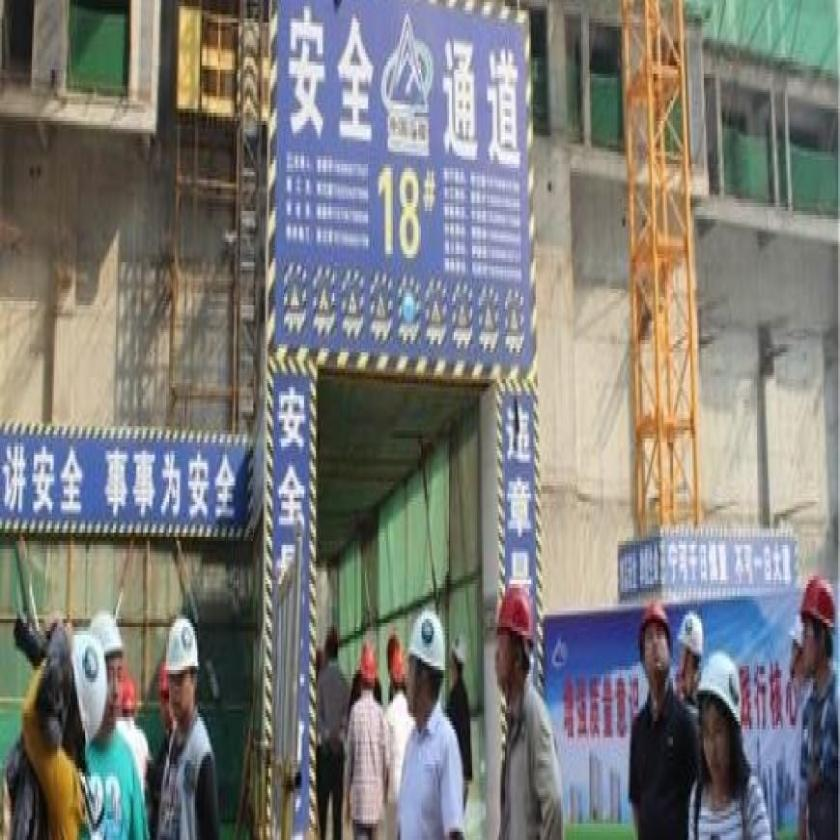Con_casco: (694, 642, 742, 792), (489, 580, 540, 697), (92, 595, 132, 735), (800, 565, 840, 680), (402, 607, 446, 708), (161, 613, 200, 726), (635, 597, 672, 703), (676, 611, 705, 684), (358, 640, 379, 700)
